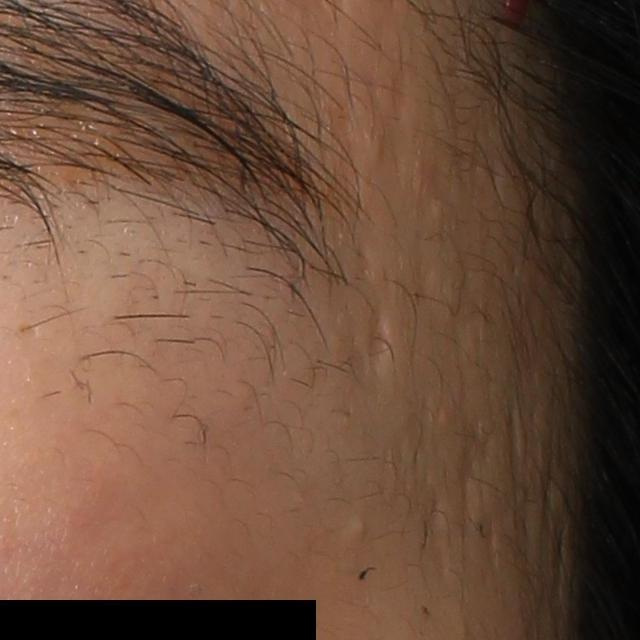atrophic_scar: (365, 306, 395, 383)
comedo: (345, 510, 368, 539)
